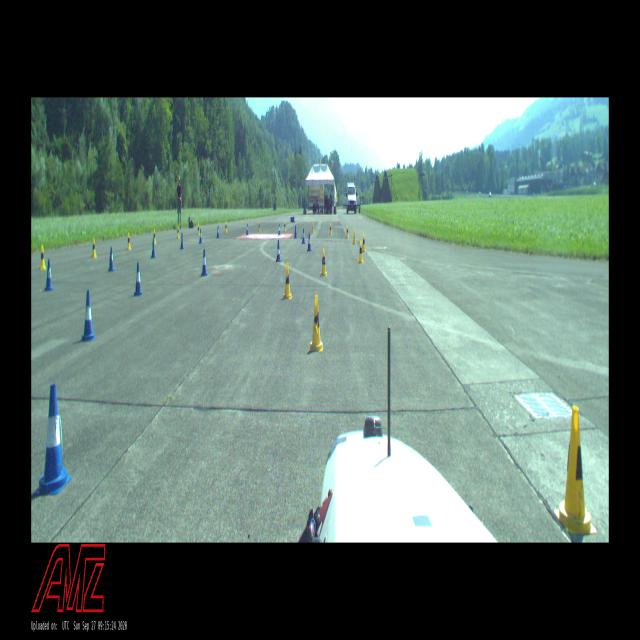blue_cone: (36, 385, 70, 495), (80, 290, 96, 342), (44, 259, 54, 291), (134, 262, 143, 296), (108, 246, 116, 272), (201, 249, 208, 276), (150, 238, 157, 258), (276, 240, 281, 262), (307, 233, 312, 251), (180, 232, 184, 250), (199, 227, 203, 245), (302, 228, 306, 244), (216, 226, 220, 238), (294, 226, 297, 240), (246, 223, 249, 235), (278, 224, 281, 235)
yellow_cone: (554, 403, 597, 535), (309, 295, 323, 351), (282, 263, 292, 299), (320, 248, 328, 276), (39, 245, 46, 270), (357, 240, 364, 264), (91, 238, 97, 258), (126, 232, 132, 250), (352, 229, 357, 245), (362, 234, 366, 252), (152, 228, 156, 244), (346, 226, 350, 240), (311, 222, 315, 233), (197, 222, 200, 235), (329, 223, 332, 235), (258, 220, 261, 232), (177, 226, 180, 238), (225, 220, 228, 232), (284, 220, 286, 232)
